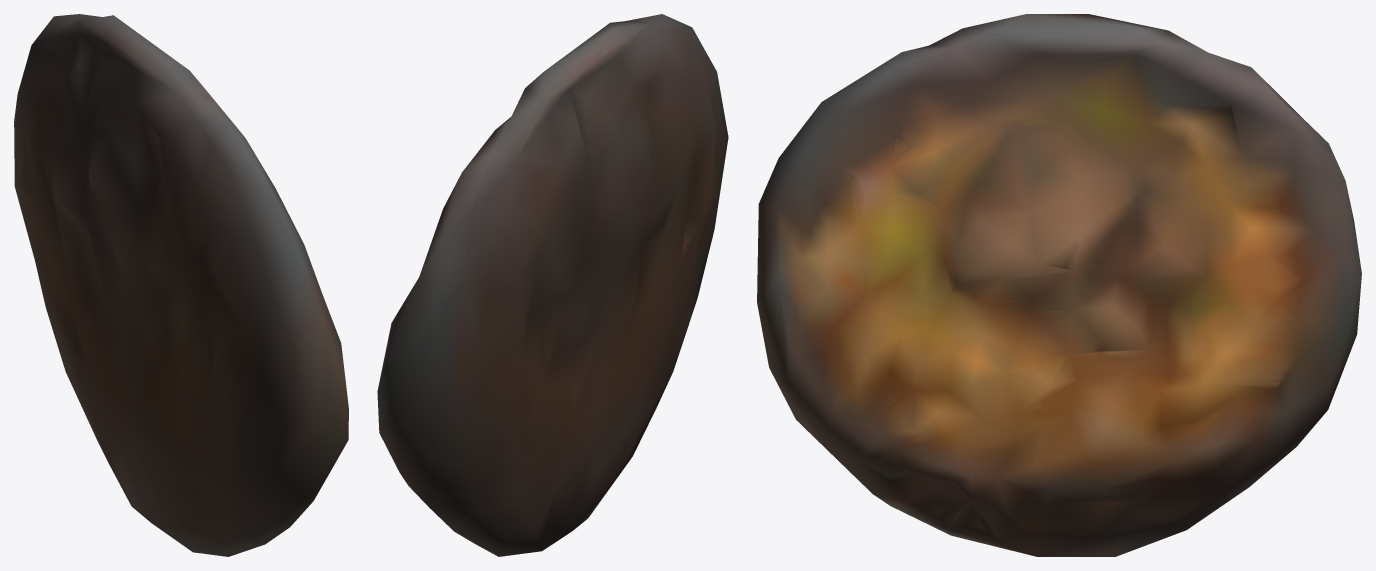
Rendered from dish_truffle_risotto.glb.
3 renders of one model, left to right at view 1: azimuth 30°, elevation 25°; view 2: azimuth 150°, elevation 25°; view 3: azimuth 270°, elevation 25°, orthographic. The views are drawn at different scales.
Parts seen in each view (by area): view 1: model; view 2: model; view 3: model.
Boxes of the visible parts, x1,y1,x2,y2 form: model: (14,14,348,556); model: (377,14,728,556); model: (757,14,1361,556).
Size of the model in its own units: 0.1142 by 0.3741 by 0.3964.
Materials: 1 (1 with a texture image).
